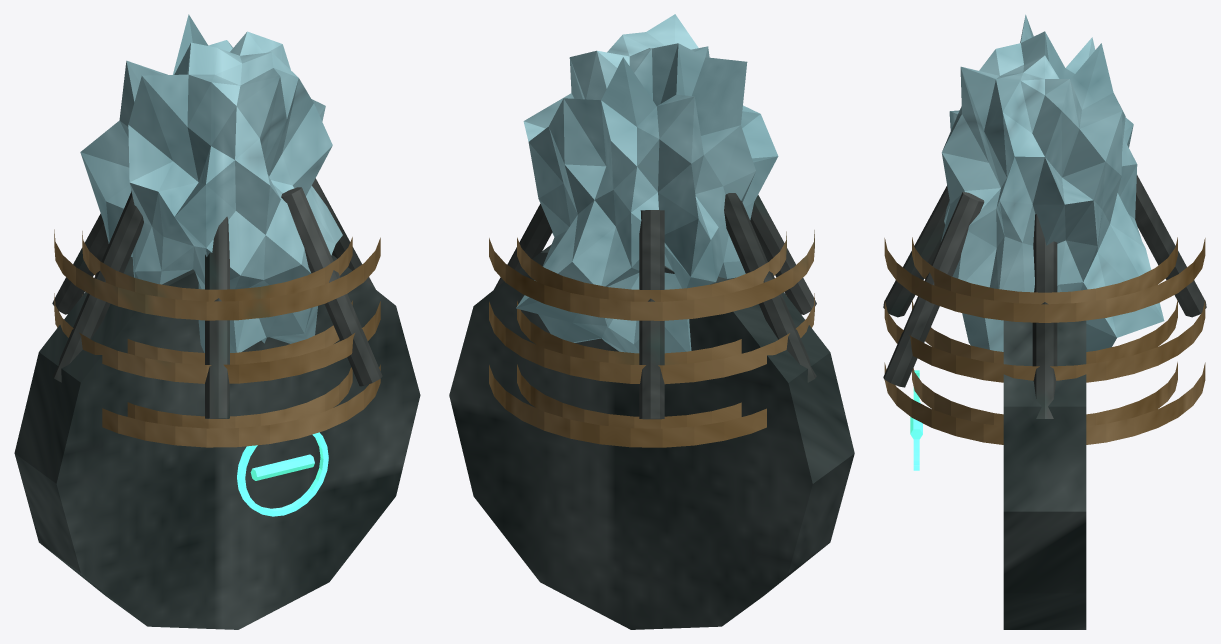
File: 0989_offering_relic_14.glb
The picture shows the model from 3 angles, left to right: view 1: azimuth 30°, elevation 25°; view 2: azimuth 150°, elevation 25°; view 3: azimuth 270°, elevation 25°; orthographic projection.
Parts seen in each view (by area): view 1: stone_dark, ice, brass, iron, glow; view 2: stone_dark, ice, brass, iron; view 3: ice, brass, stone_dark, iron, glow.
Boxes of the visible parts, x1,y1,x2,y2 form: stone_dark: (14, 254, 420, 629); ice: (80, 14, 342, 352); brass: (54, 229, 380, 447); iron: (52, 178, 382, 418); glow: (237, 432, 328, 516); stone_dark: (449, 244, 854, 629); ice: (516, 14, 778, 353); brass: (489, 230, 814, 447); iron: (494, 193, 816, 419); ice: (941, 14, 1164, 351); brass: (884, 237, 1205, 444); stone_dark: (1003, 320, 1086, 629); iron: (883, 175, 1206, 418); glow: (910, 370, 922, 470).
Bounding box in the file's own units: 0.9 × 1.37 × 0.7056.
5 materials, 5 textured.
